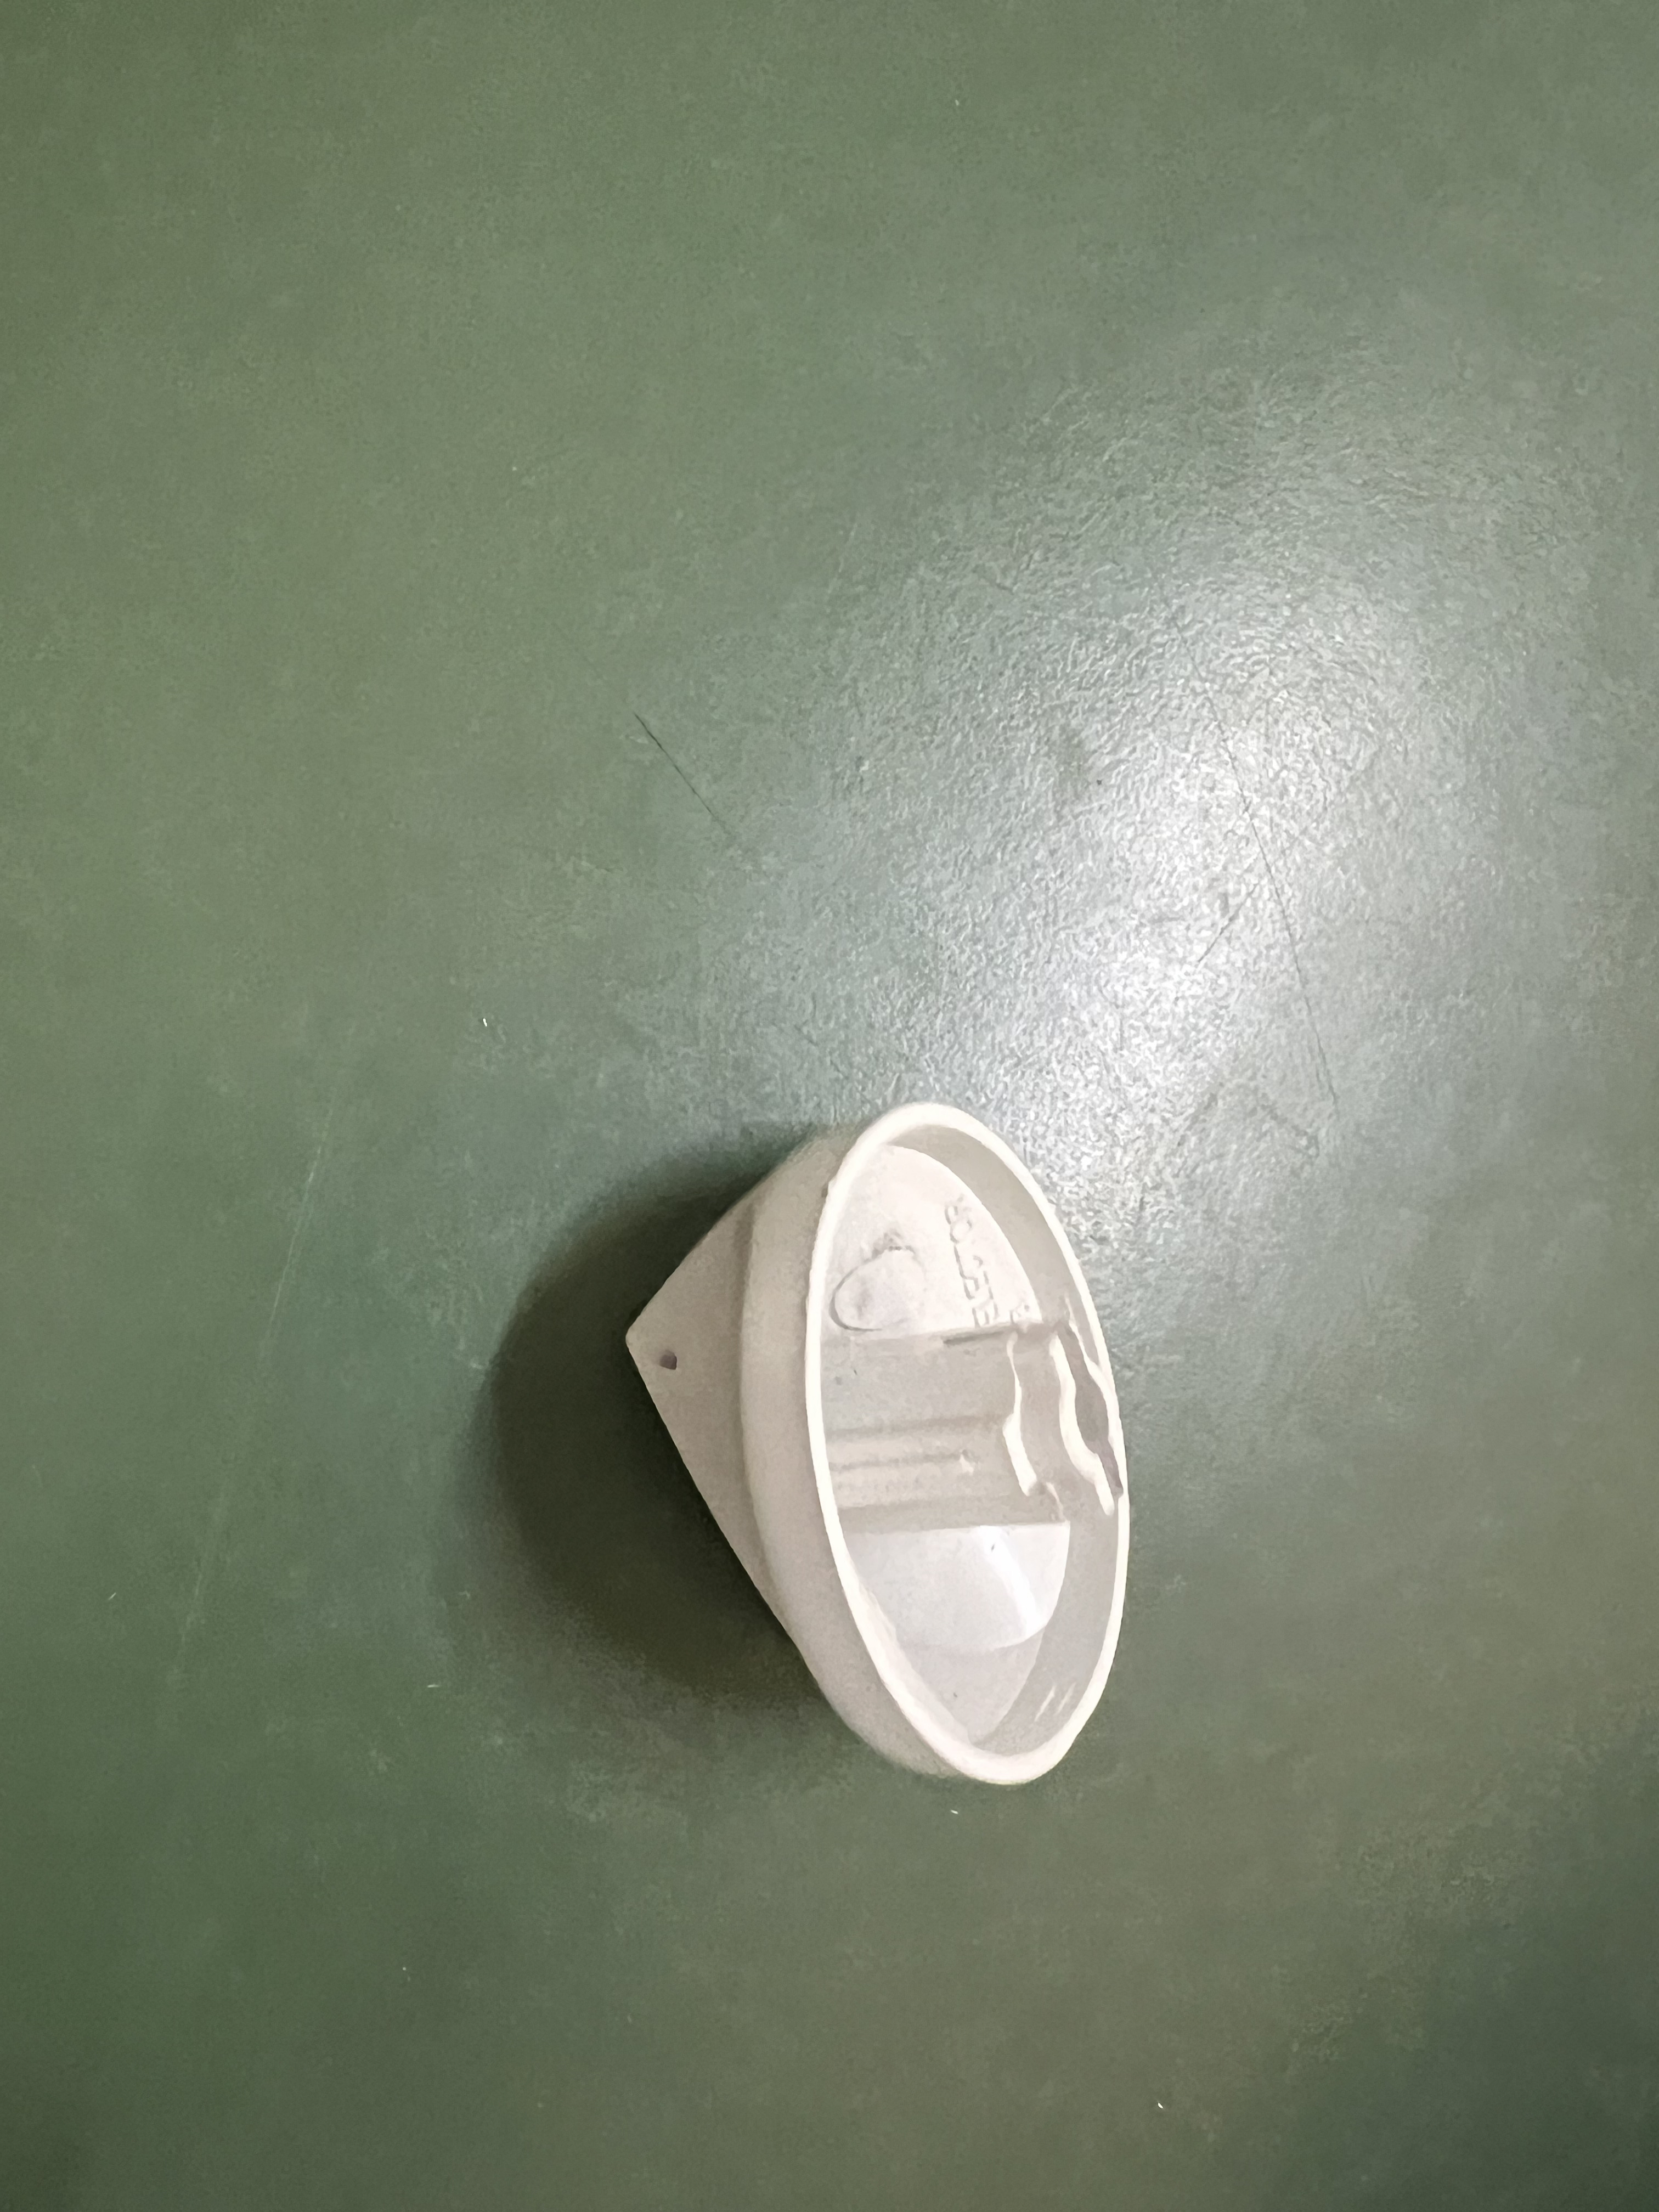regulator: (608, 1075, 1136, 1785)
